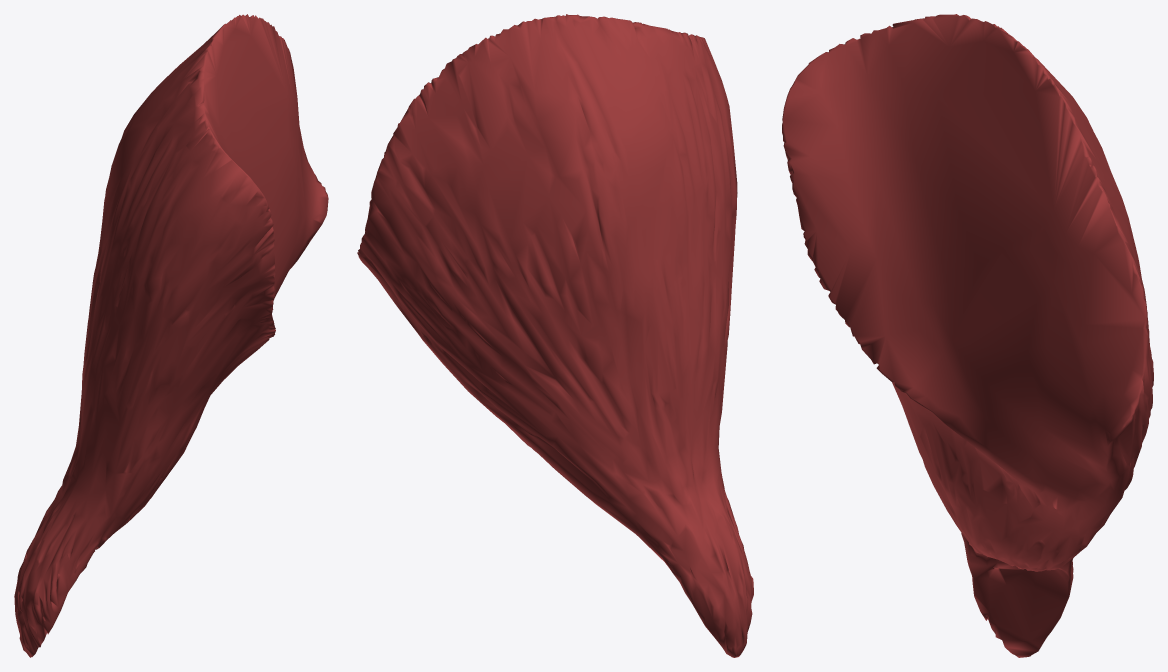
Rendered from gluteus-minimus-muscle-r.glb.
The picture shows the model from 3 angles, left to right: view 1: azimuth 30°, elevation 25°; view 2: azimuth 150°, elevation 25°; view 3: azimuth 270°, elevation 25°; orthographic projection. The views are drawn at different scales.
Parts seen in each view (by area): view 1: Gluteus minimus muscle.r; view 2: Gluteus minimus muscle.r; view 3: Gluteus minimus muscle.r.
Boxes of the visible parts, x1,y1,x2,y2 form: Gluteus minimus muscle.r: (14,14,328,657); Gluteus minimus muscle.r: (357,14,753,657); Gluteus minimus muscle.r: (782,14,1153,657).
Bounding box in the file's own units: 0.0828 × 0.1345 × 0.0608.
